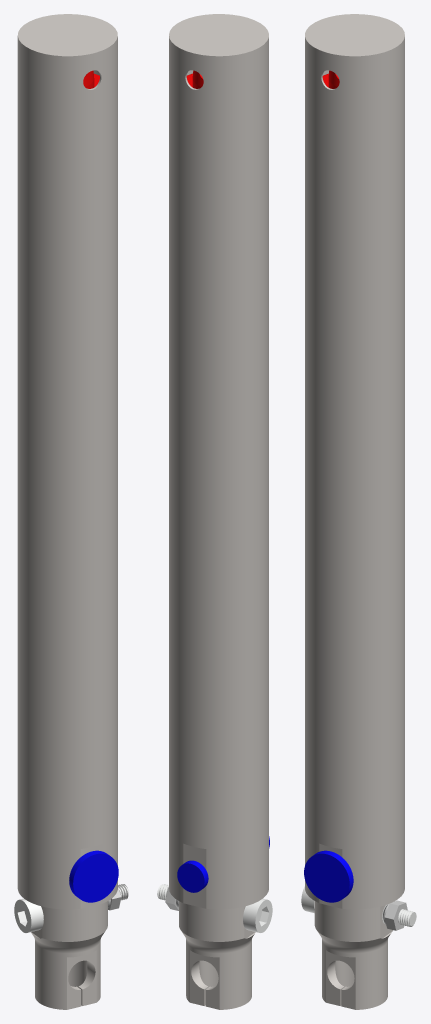
The model's file is Pneusendro.glb.
3 renders of one model, left to right at view 1: azimuth 30°, elevation 25°; view 2: azimuth 150°, elevation 25°; view 3: azimuth 330°, elevation 25°, orthographic.
Visible parts, largest first — view 1: TOP Nesting Tube 2-1, BOTTOM Nesting Tube-1, Sher Pin Thread 2-1, Shoulder bolt-1; view 2: TOP Nesting Tube 2-1, BOTTOM Nesting Tube-1, Shoulder bolt-1, shear Pin 2-1; view 3: TOP Nesting Tube 2-1, BOTTOM Nesting Tube-1, Sher Pin Thread 2-1, Shoulder bolt-1, Shoulder nut-1.
Boxes of the visible parts, x1,y1,x2,y2 form: TOP Nesting Tube 2-1: (17,14,117,909); BOTTOM Nesting Tube-1: (31,901,107,1009); Sher Pin Thread 2-1: (69,850,118,902); Shoulder bolt-1: (14,884,128,932); TOP Nesting Tube 2-1: (169,14,268,909); BOTTOM Nesting Tube-1: (179,901,255,1009); Shoulder bolt-1: (157,884,272,932); shear Pin 2-1: (177,860,208,892); TOP Nesting Tube 2-1: (305,14,404,909); BOTTOM Nesting Tube-1: (314,901,394,1009); Sher Pin Thread 2-1: (304,850,353,902); Shoulder bolt-1: (301,886,416,926); Shoulder nut-1: (383,900,407,930).
Size of the model in its own units: 0.045 by 0.4021 by 0.0427.
